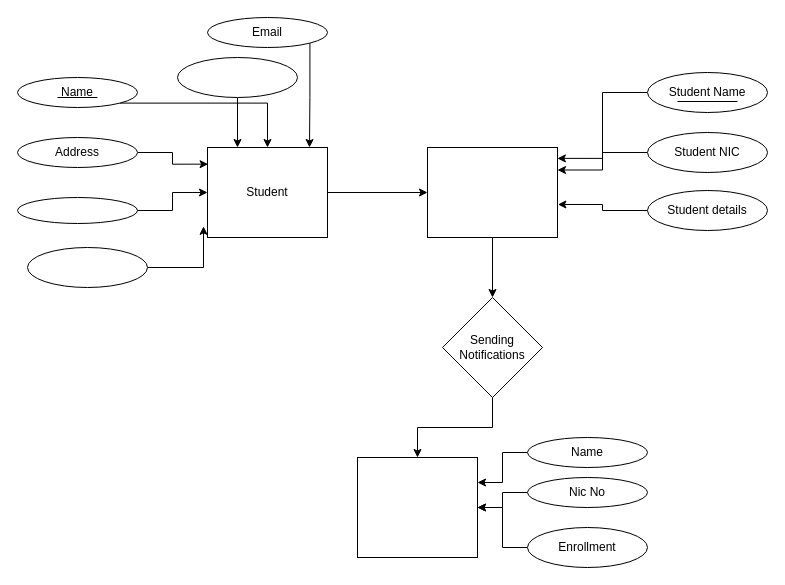
Image size: 785x585. Some labels were removed from this diagram. Each missing label, with the centre of its shape:
Date of Birth: pixel 77 210
Marketing Team: pixel 417 507
Mobile no: pixel 237 77
NIC: pixel 87 267
Receptionist: pixel 492 192
